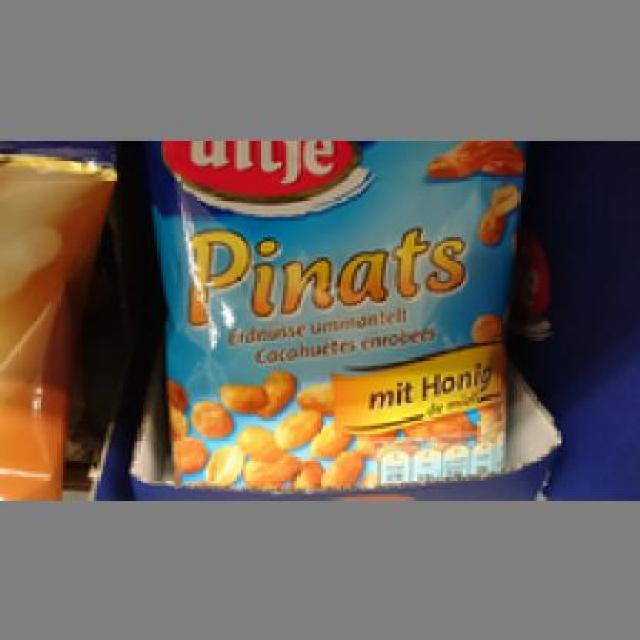Nuts: (143, 137, 526, 490)
